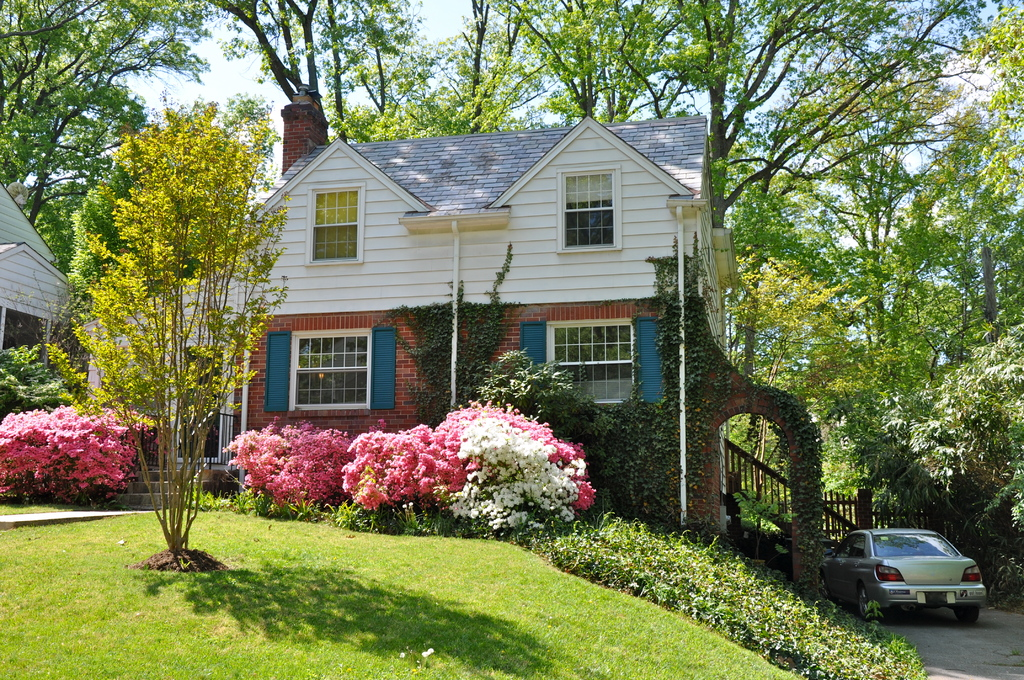Car: (817, 528, 986, 625)
